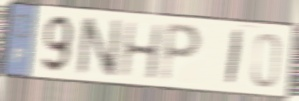0: (250, 31, 282, 90)
9: (38, 14, 75, 76)
H: (117, 21, 165, 82)
I: (223, 27, 246, 88)
N: (74, 15, 124, 79)
P: (158, 20, 205, 86)
